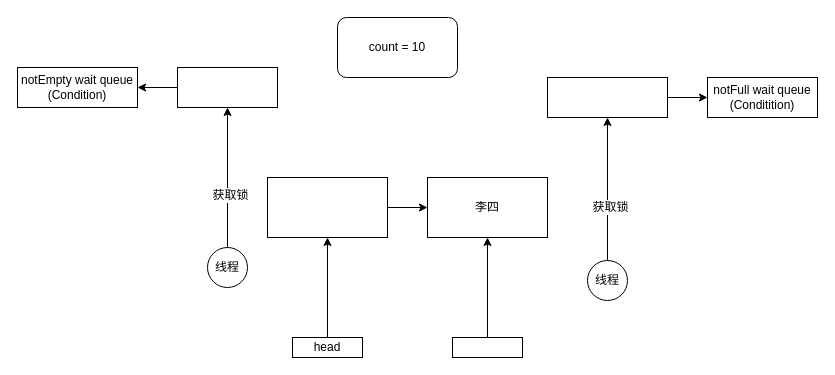
Image size: 835x375. Some labels were removed from this diagram. The shapes that lost their labels are listed below. From the top down, each one's centre as x and y in pixels, then its label:
At [227,87]: "takeLock (ReentrantLock)".
At [607,97]: "putLock (ReentrantLock)".
At [327,207]: "null".
At [487,347]: "last".
